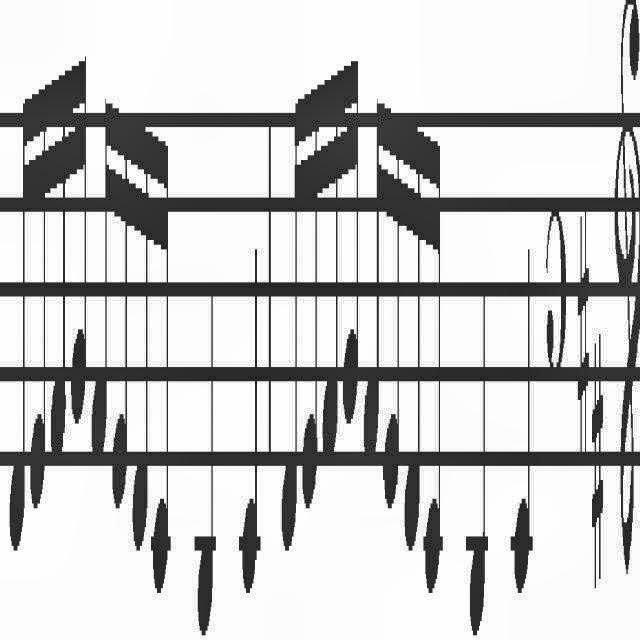Bass-clef: (607, 0, 640, 640), (639, 0, 640, 640)
Diez: (590, 282, 610, 626), (576, 170, 592, 492)
Quarter-note: (238, 204, 262, 628), (511, 240, 535, 640), (194, 251, 217, 640), (465, 291, 490, 640)
Sixteenth-note: (424, 98, 448, 634), (280, 78, 304, 574), (152, 86, 172, 640), (6, 88, 28, 560), (132, 98, 152, 574), (49, 52, 71, 480), (403, 114, 423, 580), (302, 70, 322, 530), (90, 61, 110, 519), (362, 76, 384, 488), (320, 34, 340, 486), (382, 107, 402, 546), (31, 66, 49, 534), (112, 71, 130, 536), (342, 44, 360, 423), (72, 61, 88, 436)
